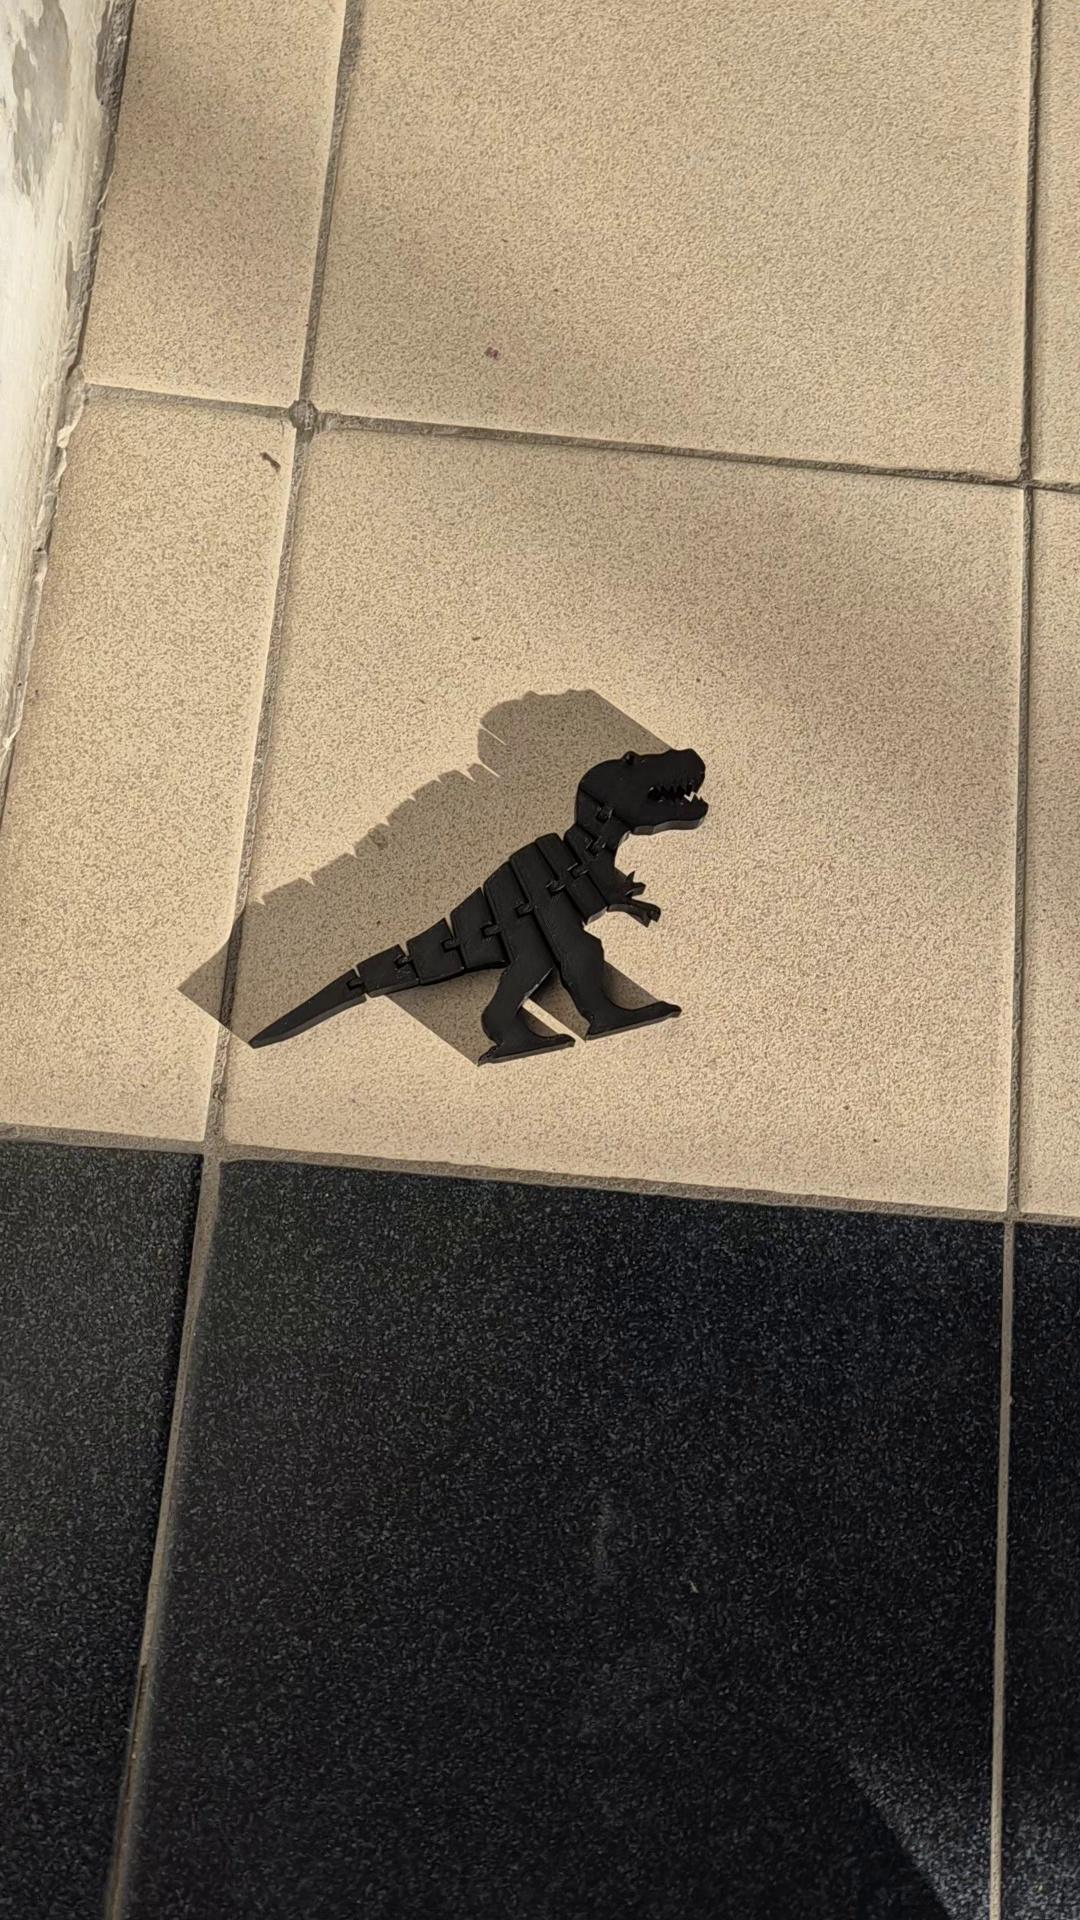dinosaur: (245, 746, 711, 1068)
